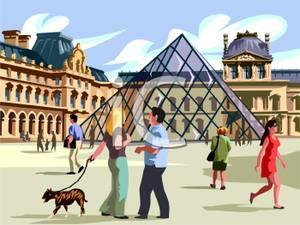dog: (40, 187, 88, 218)
person: (89, 107, 132, 218), (134, 106, 173, 217), (249, 119, 287, 209), (206, 124, 233, 189), (65, 113, 84, 176)
